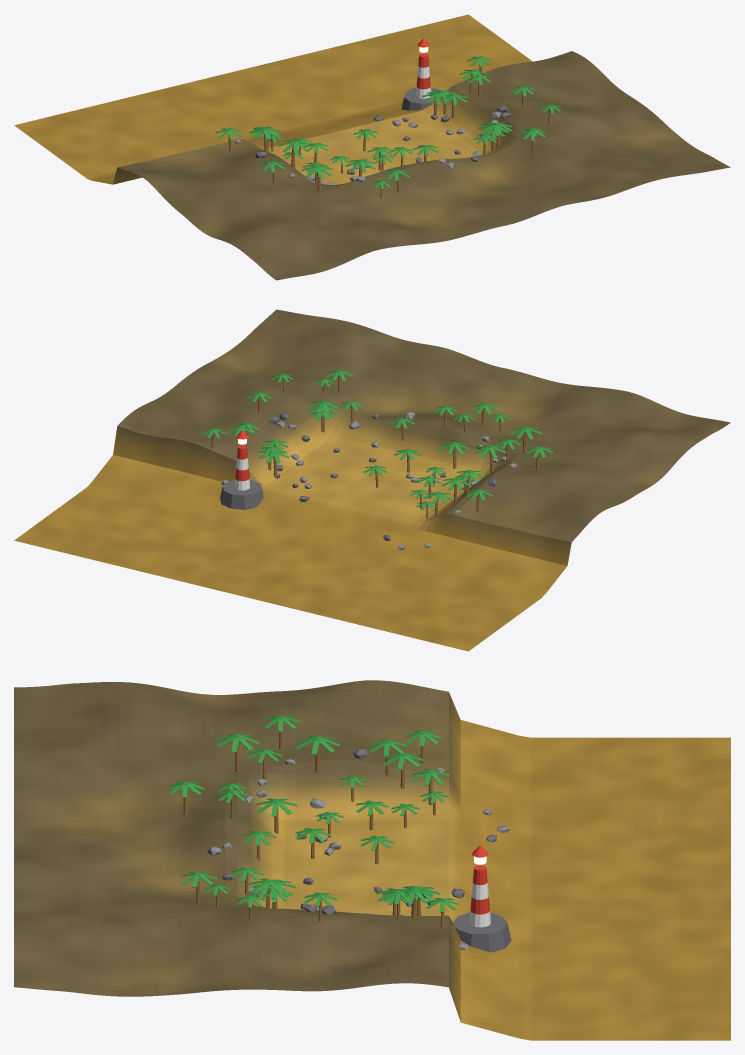
Rendered from suoTsuriba.glb.
3 renders of one model, top to bottom at view 1: azimuth 30°, elevation 25°; view 2: azimuth 150°, elevation 25°; view 3: azimuth 270°, elevation 25°, orthographic. The views are drawn at different scales.
Parts seen in each view (by area): view 1: terrain, palmLeaf, palmTrunk, rockDark, rock; view 2: terrain, palmLeaf, rockDark, palmTrunk, rock; view 3: terrain, palmLeaf, palmTrunk, rockDark, rock, lighthouseRed.
Part boxes in pixels (x1,y1,x2,y2): terrain: (14, 14, 730, 280); palmLeaf: (215, 56, 560, 189); palmTrunk: (228, 64, 550, 198); rockDark: (255, 88, 511, 180); rock: (234, 111, 500, 184); terrain: (14, 309, 730, 651); palmLeaf: (202, 369, 553, 509); rockDark: (220, 413, 497, 540); palmTrunk: (211, 374, 539, 518); rock: (221, 411, 517, 550); terrain: (14, 680, 730, 1040); palmLeaf: (168, 715, 459, 912); palmTrunk: (183, 731, 444, 927); rockDark: (222, 748, 511, 952); rock: (207, 758, 509, 950); lighthouseRed: (470, 845, 489, 914).
Size of what is drawn, in the model's own units: 91.5 by 14.75 by 91.5.
